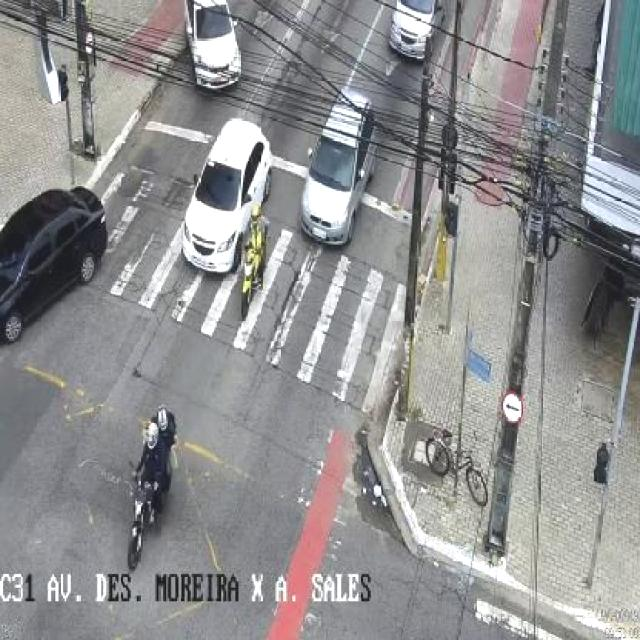Car: (0, 182, 112, 338), (174, 116, 270, 270), (294, 90, 378, 242), (177, 0, 247, 85), (390, 0, 443, 57)
Cycle: (124, 404, 178, 571)
